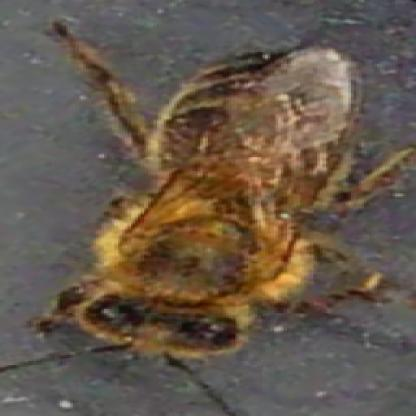bee: (52, 42, 389, 362)
